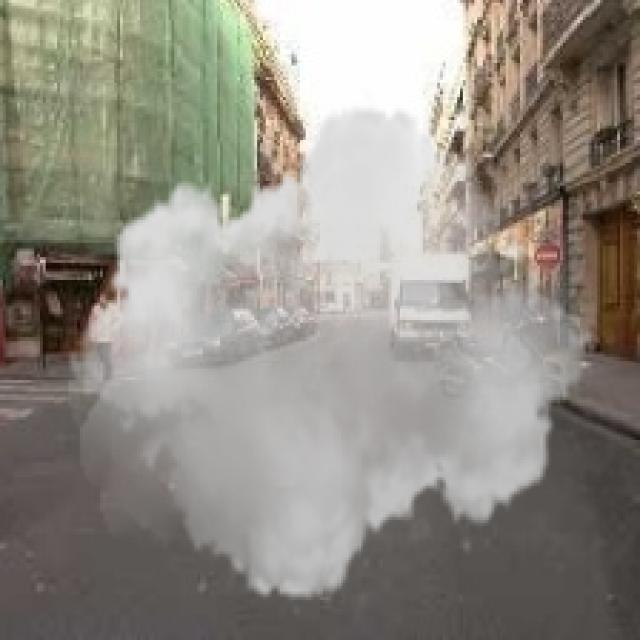Smoke: (68, 85, 598, 620)
